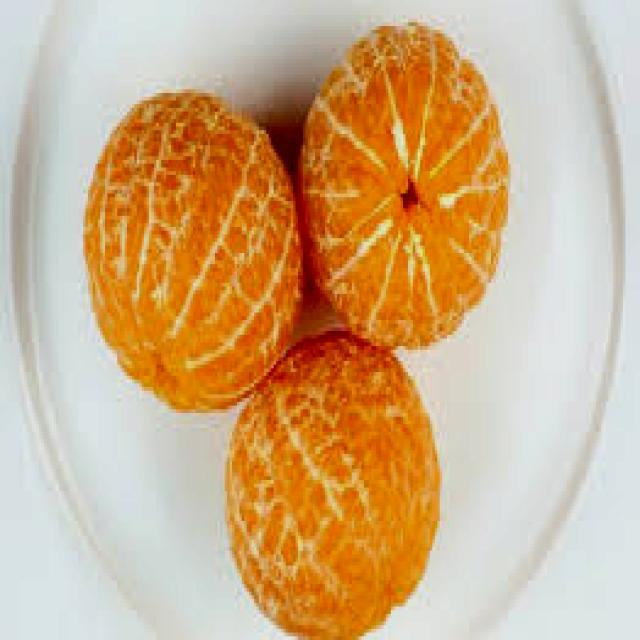jeruk: (290, 28, 526, 364), (77, 90, 304, 416), (215, 350, 459, 640)
